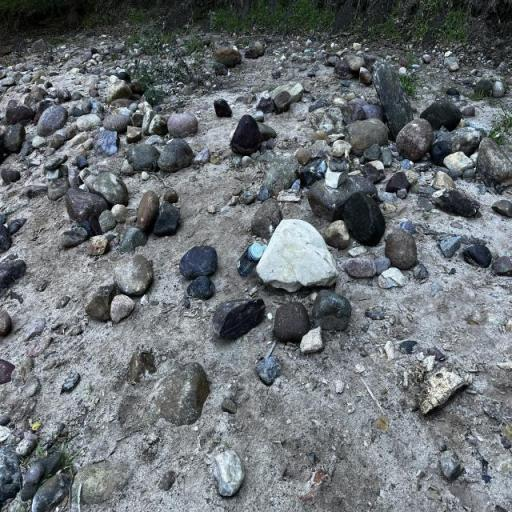bottle: (236, 242, 268, 278)
